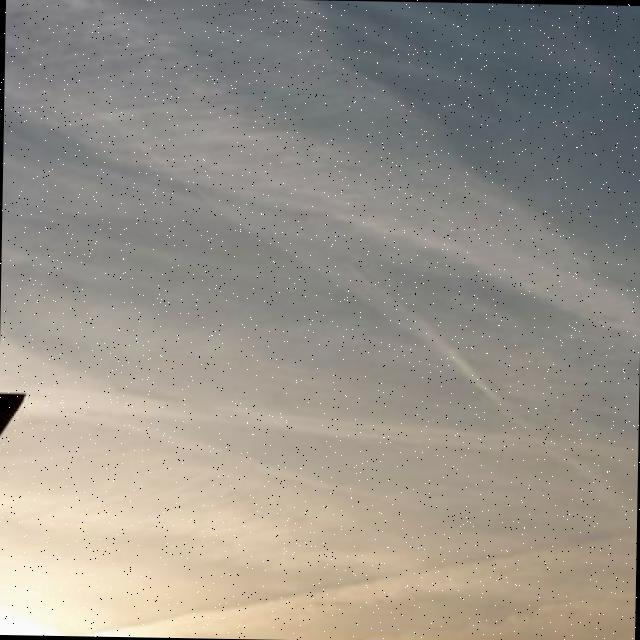Ct: (1, 30, 640, 355)
